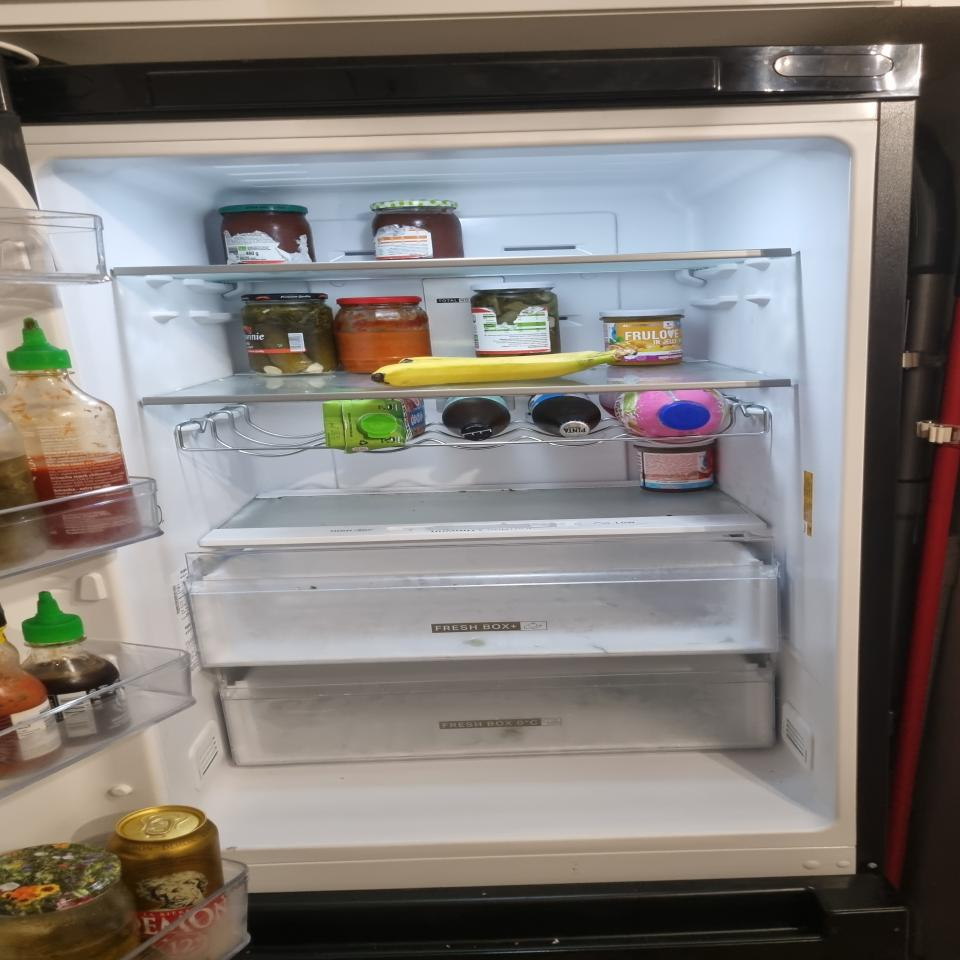Plátano: (371, 349, 639, 387)
